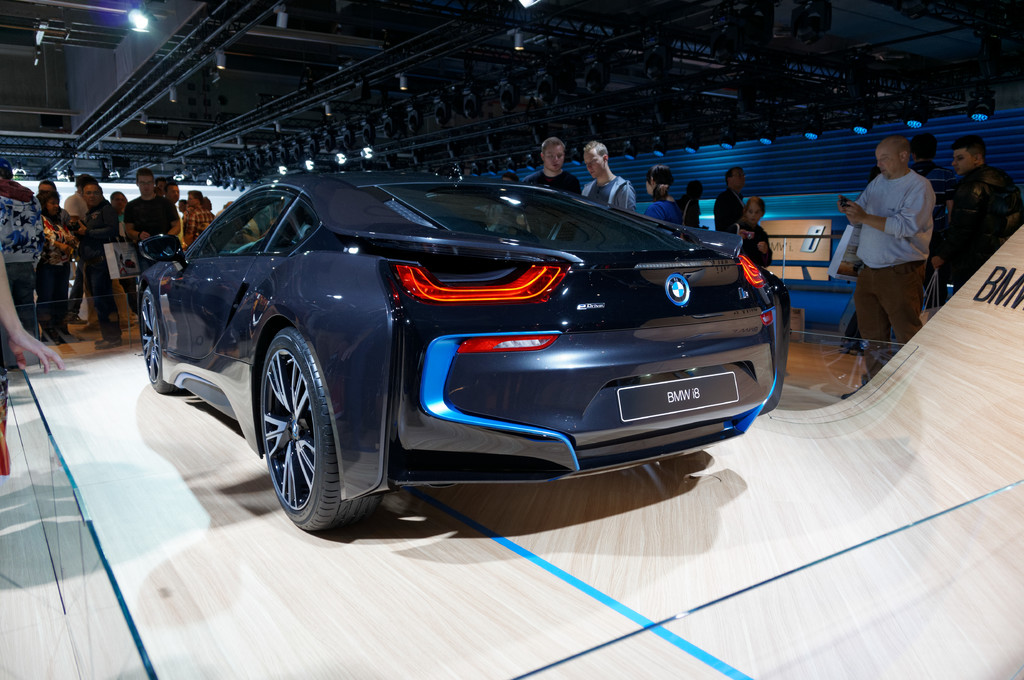Car: (138, 150, 788, 532)
